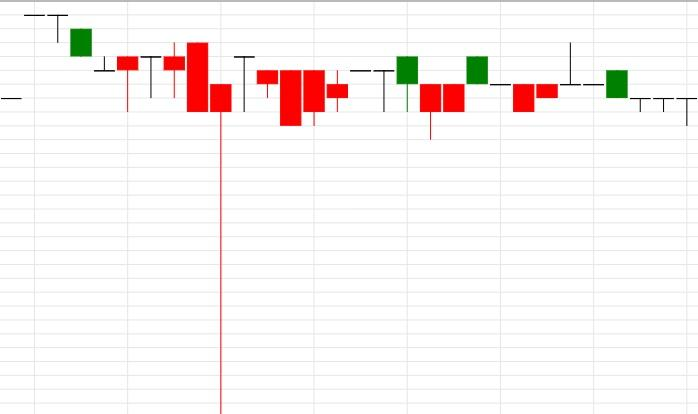hammer_rise: (24, 14, 232, 414)
